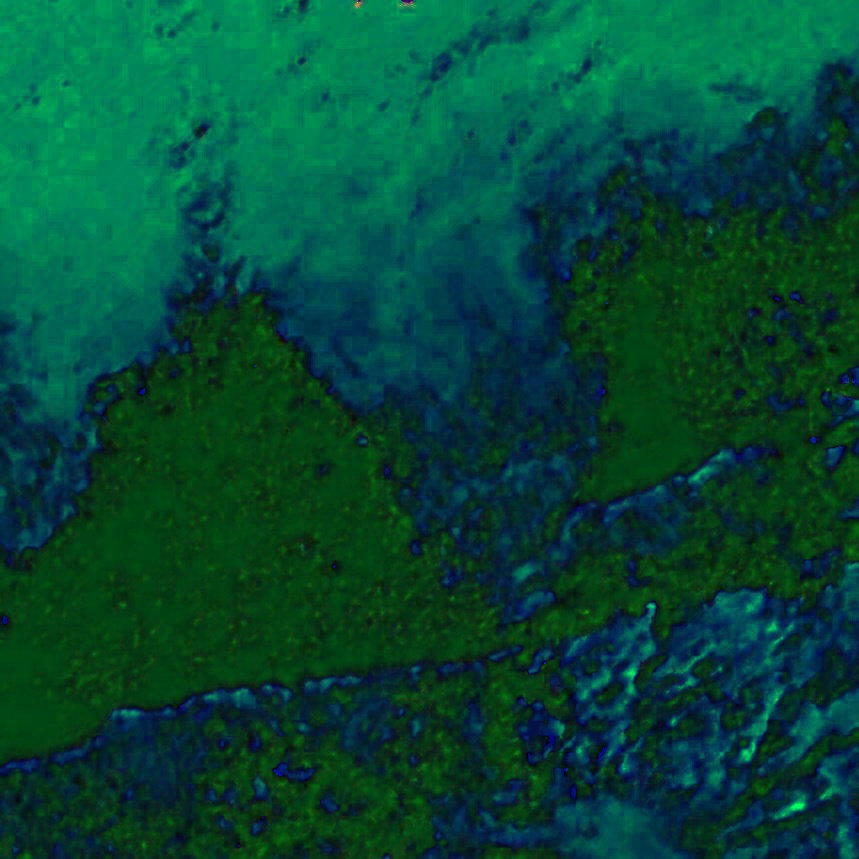rip_current: (262, 213, 677, 615)
